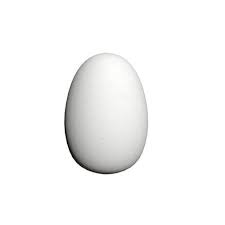eggs: (67, 49, 147, 174)
